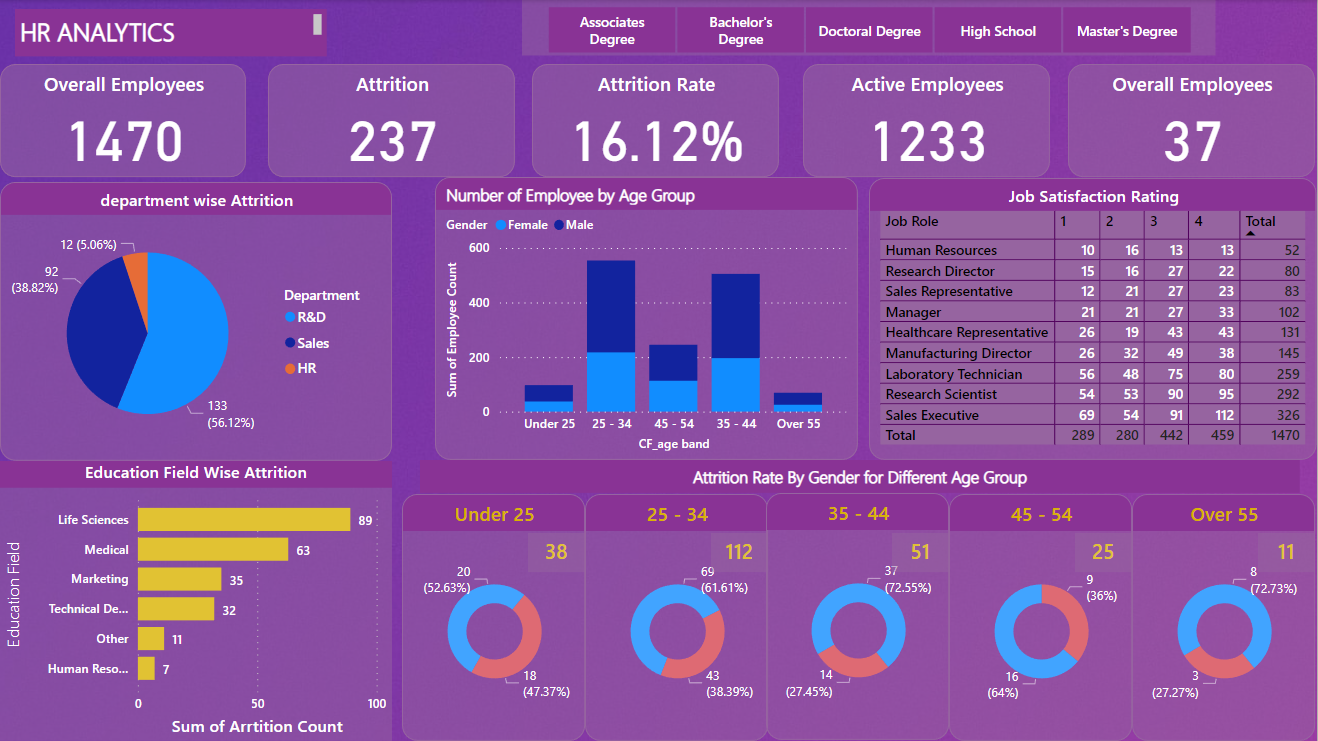

This screenshot's page, from the dashboard's own definition file:
{"tool":"powerbi","page":{"name":"Page 1","canvas":[1280,720],"ordinal":0},"visuals":[{"type":"card","title":"Overall Employees","fields":{"Values":["Sum(HR data.Employee Count)"]},"box":[0,62.2,239.1,109.8],"z":0},{"type":"card","title":"Attrition","fields":{"Values":["Sum(HR data.Arrtition Count)"]},"box":[260.5,62.2,240.1,109.8],"z":1000},{"type":"card","title":"Attrition Rate","fields":{"Values":["HR data.Attrition Rate"]},"box":[517.1,62.2,240.1,109.8],"z":2000},{"type":"card","title":"Active Employees","fields":{"Values":["HR data.Active Employees"]},"box":[780.4,62.2,240.1,109.8],"z":3000},{"type":"card","title":"Overall Employees","fields":{"Values":["Avg(HR data.Age)"]},"box":[1038,62.2,240.1,109.8],"z":4000},{"type":"pieChart","title":"department wise Attrition","fields":{"Category":["HR data.Department"],"Y":["Sum(HR data.Arrtition Count)"]},"box":[0,176.9,381,271.2],"z":5000},{"type":"columnChart","title":"Number of Employee by Age Group","fields":{"Category":["HR data.CF_age band"],"Y":["Sum(HR data.Employee Count)"],"Series":["HR data.Gender"]},"box":[422.8,172,411.1,275],"z":6000},{"type":"pivotTable","title":"Job Satisfaction Rating","fields":{"Rows":["HR data.Job Role"],"Columns":["HR data.Job Satisfaction"],"Values":["Sum(HR data.Employee Count)"]},"box":[844.6,173,435.4,274.1],"z":7000},{"type":"barChart","title":"Education Field Wise Attrition","fields":{"Category":["HR data.Education Field"],"Y":["Sum(HR data.Arrtition Count)"]},"box":[0,448,381,272.1],"z":8000},{"type":"donutChart","title":"Under 25","fields":{"Category":["HR data.Gender"],"Y":["Sum(HR data.Arrtition Count)"],"Series":["HR data.CF_age band"]},"box":[390.7,480.1,177.9,240.1],"z":9000},{"type":"textbox","box":[408.2,447.1,855.3,32.1],"z":10000},{"type":"donutChart","title":"25 - 34","fields":{"Category":["HR data.Gender"],"Y":["Sum(HR data.Arrtition Count)"],"Series":["HR data.CF_age band"]},"box":[568.6,480.1,177.9,240.1],"z":11000},{"type":"donutChart","title":"45 - 54","fields":{"Category":["HR data.Gender"],"Y":["Sum(HR data.Arrtition Count)"],"Series":["HR data.CF_age band"]},"box":[922.3,480.1,177.9,240.1],"z":12000},{"type":"donutChart","title":"35 - 44","fields":{"Category":["HR data.Gender"],"Y":["Sum(HR data.Arrtition Count)"],"Series":["HR data.CF_age band"]},"box":[744.5,479.1,177.9,240.1],"z":13000},{"type":"donutChart","title":"Over 55","fields":{"Category":["HR data.Gender"],"Y":["Sum(HR data.Arrtition Count)"],"Series":["HR data.CF_age band"]},"box":[1100.2,480.1,177.9,240.1],"z":14000},{"type":"card","fields":{"Values":["Sum(HR data.Arrtition Count)"]},"box":[513.2,518,55.4,37.9],"z":14001},{"type":"card","fields":{"Values":["Sum(HR data.Arrtition Count)"]},"box":[691,518,55.4,37.9],"z":14002},{"type":"card","fields":{"Values":["Sum(HR data.Arrtition Count)"]},"box":[866.9,518,55.4,37.9],"z":14003},{"type":"card","fields":{"Values":["Sum(HR data.Arrtition Count)"]},"box":[1044.8,518,55.4,37.9],"z":14004},{"type":"card","fields":{"Values":["Sum(HR data.Arrtition Count)"]},"box":[1222.7,518,55.4,37.9],"z":14005},{"type":"textbox","box":[14.6,8.7,303.2,45.7],"z":14006},{"type":"slicer","fields":{"Values":["HR data.Education"]},"box":[507.3,0,673.5,54.4],"z":14007}]}

Visuals, with their boxes in screenshot pixels (x1, y1, x2, y2), scaled from the page's 1280x720 canvas onto the 1318x741 screenshot:
"Overall Employees" card: <bbox>0, 64, 246, 177</bbox>
"Attrition" card: <bbox>268, 64, 515, 177</bbox>
"Attrition Rate" card: <bbox>532, 64, 780, 177</bbox>
"Active Employees" card: <bbox>804, 64, 1051, 177</bbox>
"Overall Employees" card: <bbox>1069, 64, 1316, 177</bbox>
"department wise Attrition" pieChart: <bbox>0, 182, 392, 461</bbox>
"Number of Employee by Age Group" columnChart: <bbox>435, 177, 859, 460</bbox>
"Job Satisfaction Rating" pivotTable: <bbox>870, 178, 1317, 460</bbox>
"Education Field Wise Attrition" barChart: <bbox>0, 461, 392, 740</bbox>
"Under 25" donutChart: <bbox>402, 494, 585, 740</bbox>
textbox: <bbox>420, 460, 1301, 493</bbox>
"25 - 34" donutChart: <bbox>585, 494, 769, 740</bbox>
"45 - 54" donutChart: <bbox>950, 494, 1133, 740</bbox>
"35 - 44" donutChart: <bbox>767, 493, 950, 740</bbox>
"Over 55" donutChart: <bbox>1133, 494, 1316, 740</bbox>
card - Sum(HR data.Arrtition Count): <bbox>528, 533, 585, 572</bbox>
card - Sum(HR data.Arrtition Count): <bbox>712, 533, 769, 572</bbox>
card - Sum(HR data.Arrtition Count): <bbox>893, 533, 950, 572</bbox>
card - Sum(HR data.Arrtition Count): <bbox>1076, 533, 1133, 572</bbox>
card - Sum(HR data.Arrtition Count): <bbox>1259, 533, 1316, 572</bbox>
textbox: <bbox>15, 9, 327, 56</bbox>
slicer - HR data.Education: <bbox>522, 0, 1216, 56</bbox>
